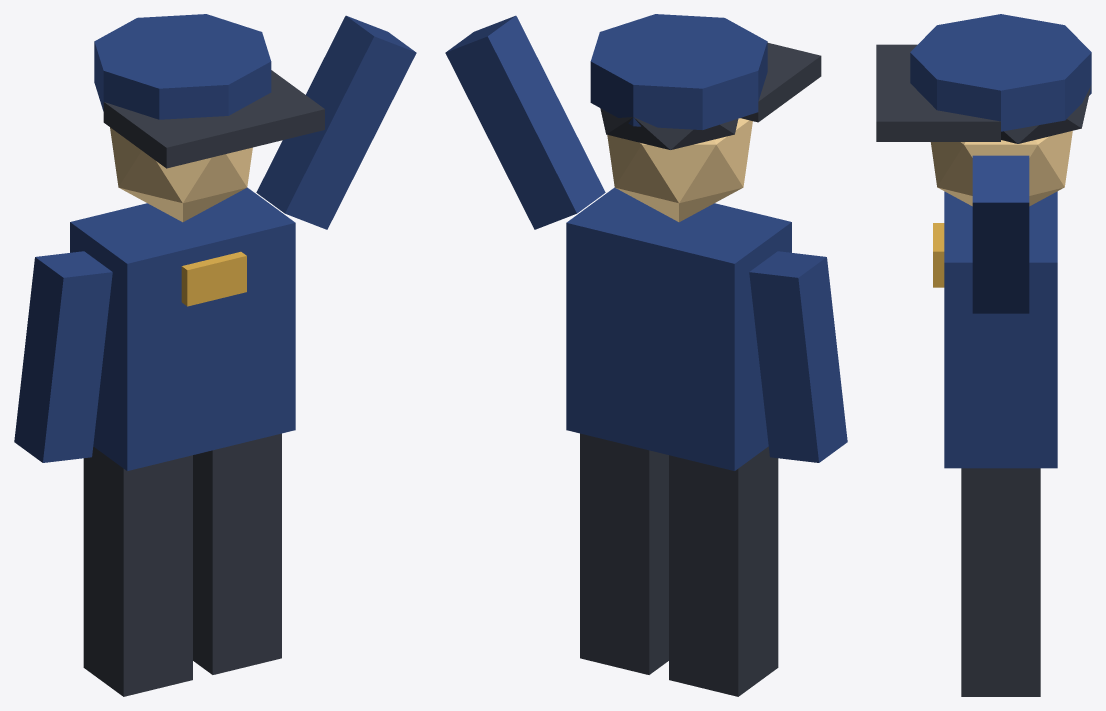
File: people_police.glb
The picture shows the model from 3 angles, left to right: view 1: azimuth 30°, elevation 25°; view 2: azimuth 150°, elevation 25°; view 3: azimuth 270°, elevation 25°; orthographic projection.
Visible parts, largest first — view 1: people_police; view 2: people_police; view 3: people_police.
Boxes of the visible parts, <box> form: people_police: <box>14,14,416,696</box>; people_police: <box>445,14,847,696</box>; people_police: <box>876,14,1091,696</box>.
Size of the model in its own units: 0.0755 by 0.118 by 0.038.
